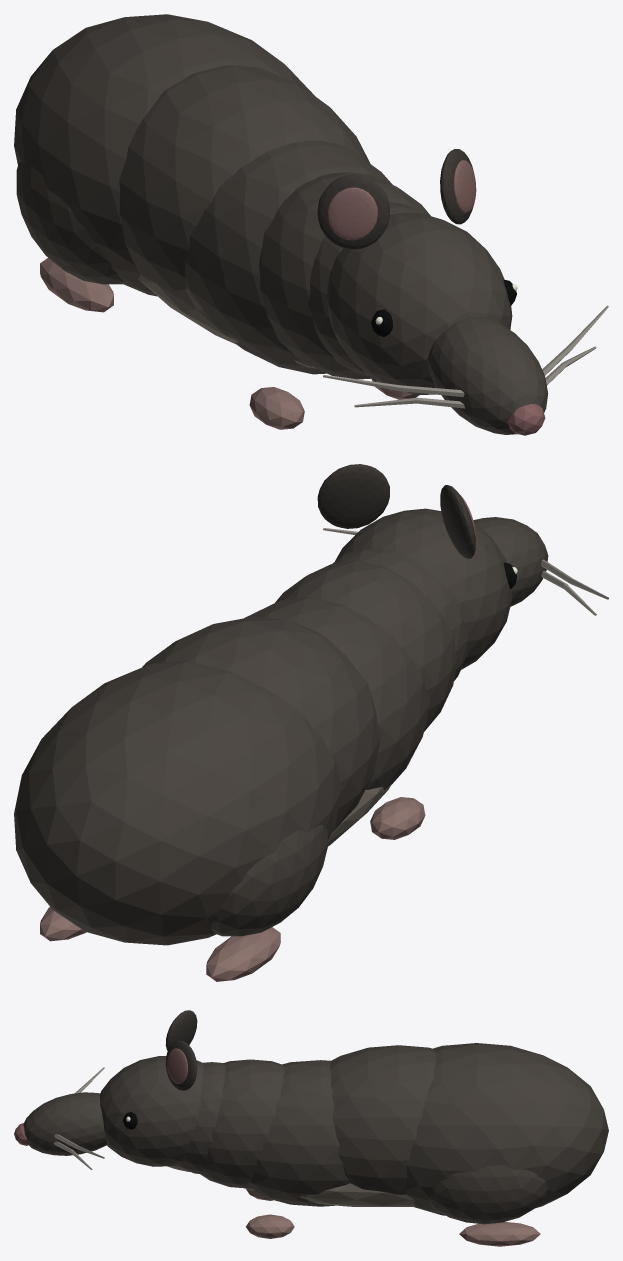
File: PipBody.obj
3 views of the same model, one above another, from view 1: azimuth 30°, elevation 25°; view 2: azimuth 150°, elevation 25°; view 3: azimuth 270°, elevation 25° (orthographic). The views are drawn at different scales.
Visible parts, largest first — view 1: Fur, Paws, Ear, EarInner, Whiskers, Belly, Nose, Eyes; view 2: Fur, Ear, Paws, Whiskers, Belly; view 3: Fur, Paws, Belly, Ear, EarInner, Whiskers.
Part boxes in pixels (x1=…): Fur: x1=14, y1=14, x2=548, y2=434; Paws: x1=40, y1=258, x2=419, y2=429; Ear: x1=317, y1=149, x2=474, y2=249; EarInner: x1=327, y1=160, x2=476, y2=240; Whiskers: x1=323, y1=305, x2=608, y2=408; Belly: x1=138, y1=275, x2=368, y2=375; Nose: x1=508, y1=403, x2=545, y2=435; Eyes: x1=371, y1=279, x2=516, y2=336; Fur: x1=14, y1=508, x2=548, y2=945; Ear: x1=317, y1=464, x2=475, y2=558; Paws: x1=40, y1=797, x2=425, y2=981; Whiskers: x1=323, y1=528, x2=608, y2=615; Belly: x1=328, y1=783, x2=391, y2=846; Fur: x1=23, y1=1043, x2=608, y2=1224; Paws: x1=246, y1=1189, x2=540, y2=1246; Belly: x1=167, y1=1164, x2=414, y2=1206; Ear: x1=165, y1=1010, x2=197, y2=1090; EarInner: x1=167, y1=1048, x2=187, y2=1083; Whiskers: x1=53, y1=1067, x2=104, y2=1170.
Bounding box in the file's own units: 0.5221 × 0.5153 × 1.45.
